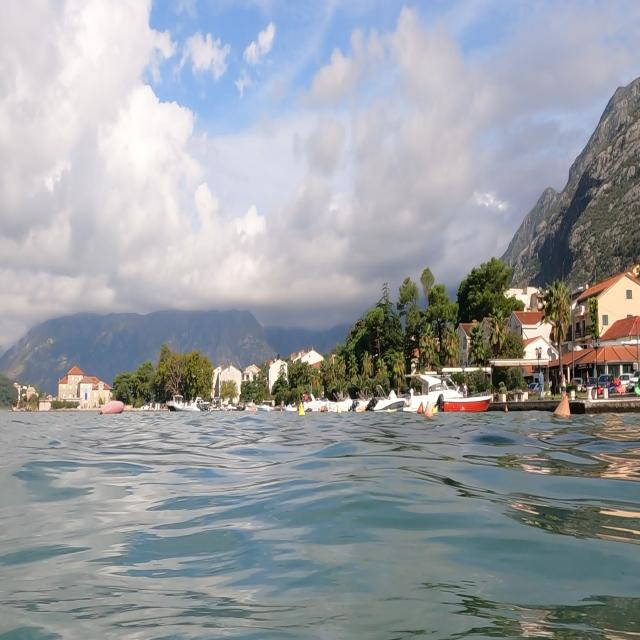boat: (386, 356, 507, 416), (322, 386, 386, 424), (160, 386, 204, 420)
buoy: (97, 394, 131, 424), (550, 386, 574, 426), (422, 399, 434, 422), (296, 402, 308, 420)
